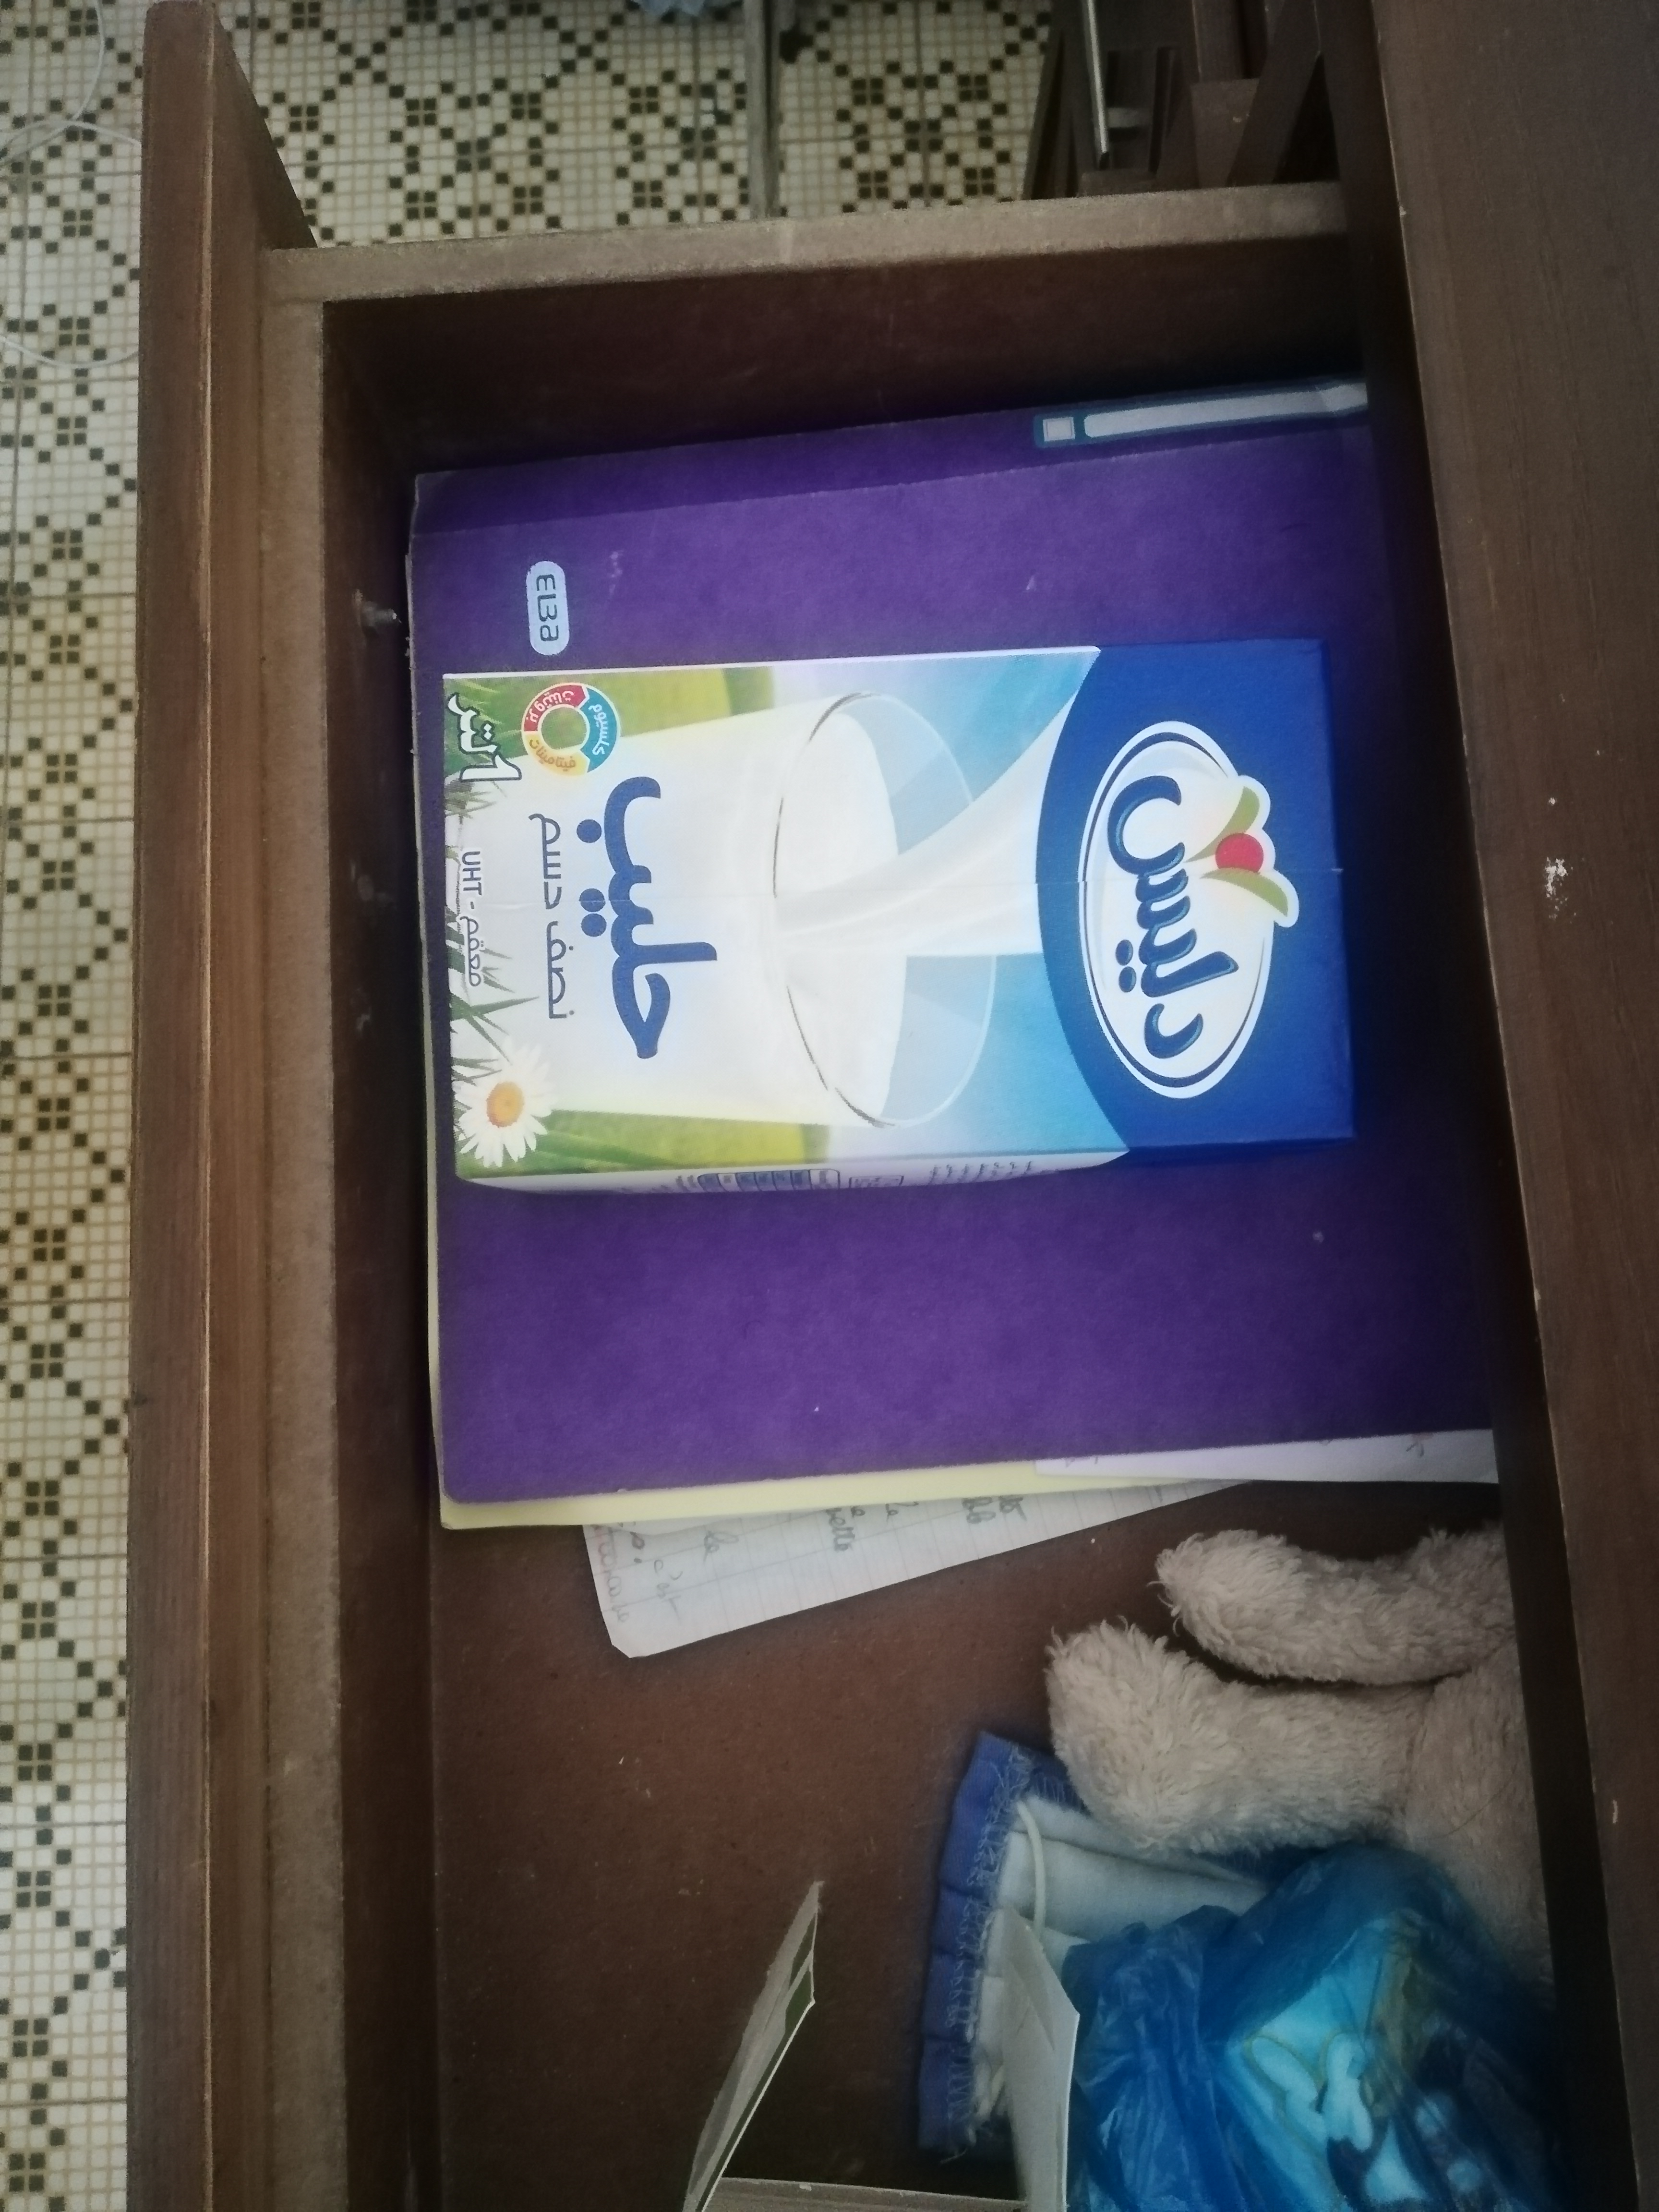Lait delice: (450, 639, 1368, 1195)
